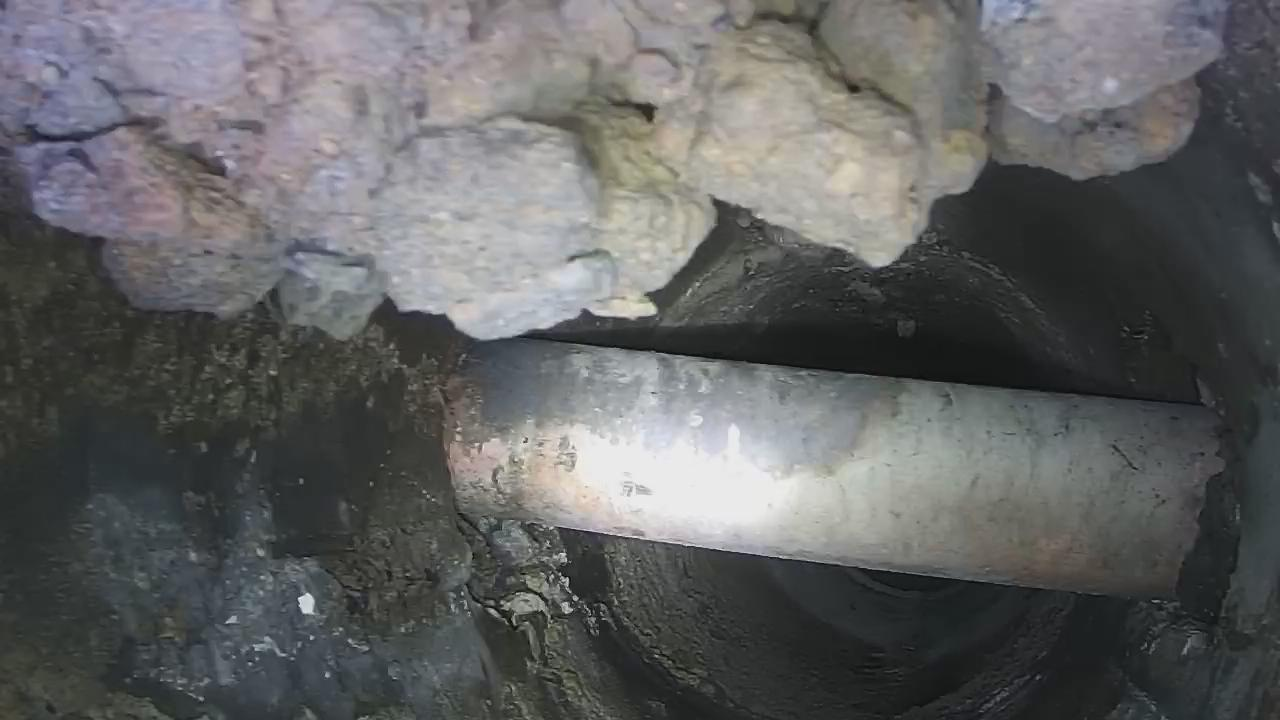YWCR: (446, 340, 1225, 597)
